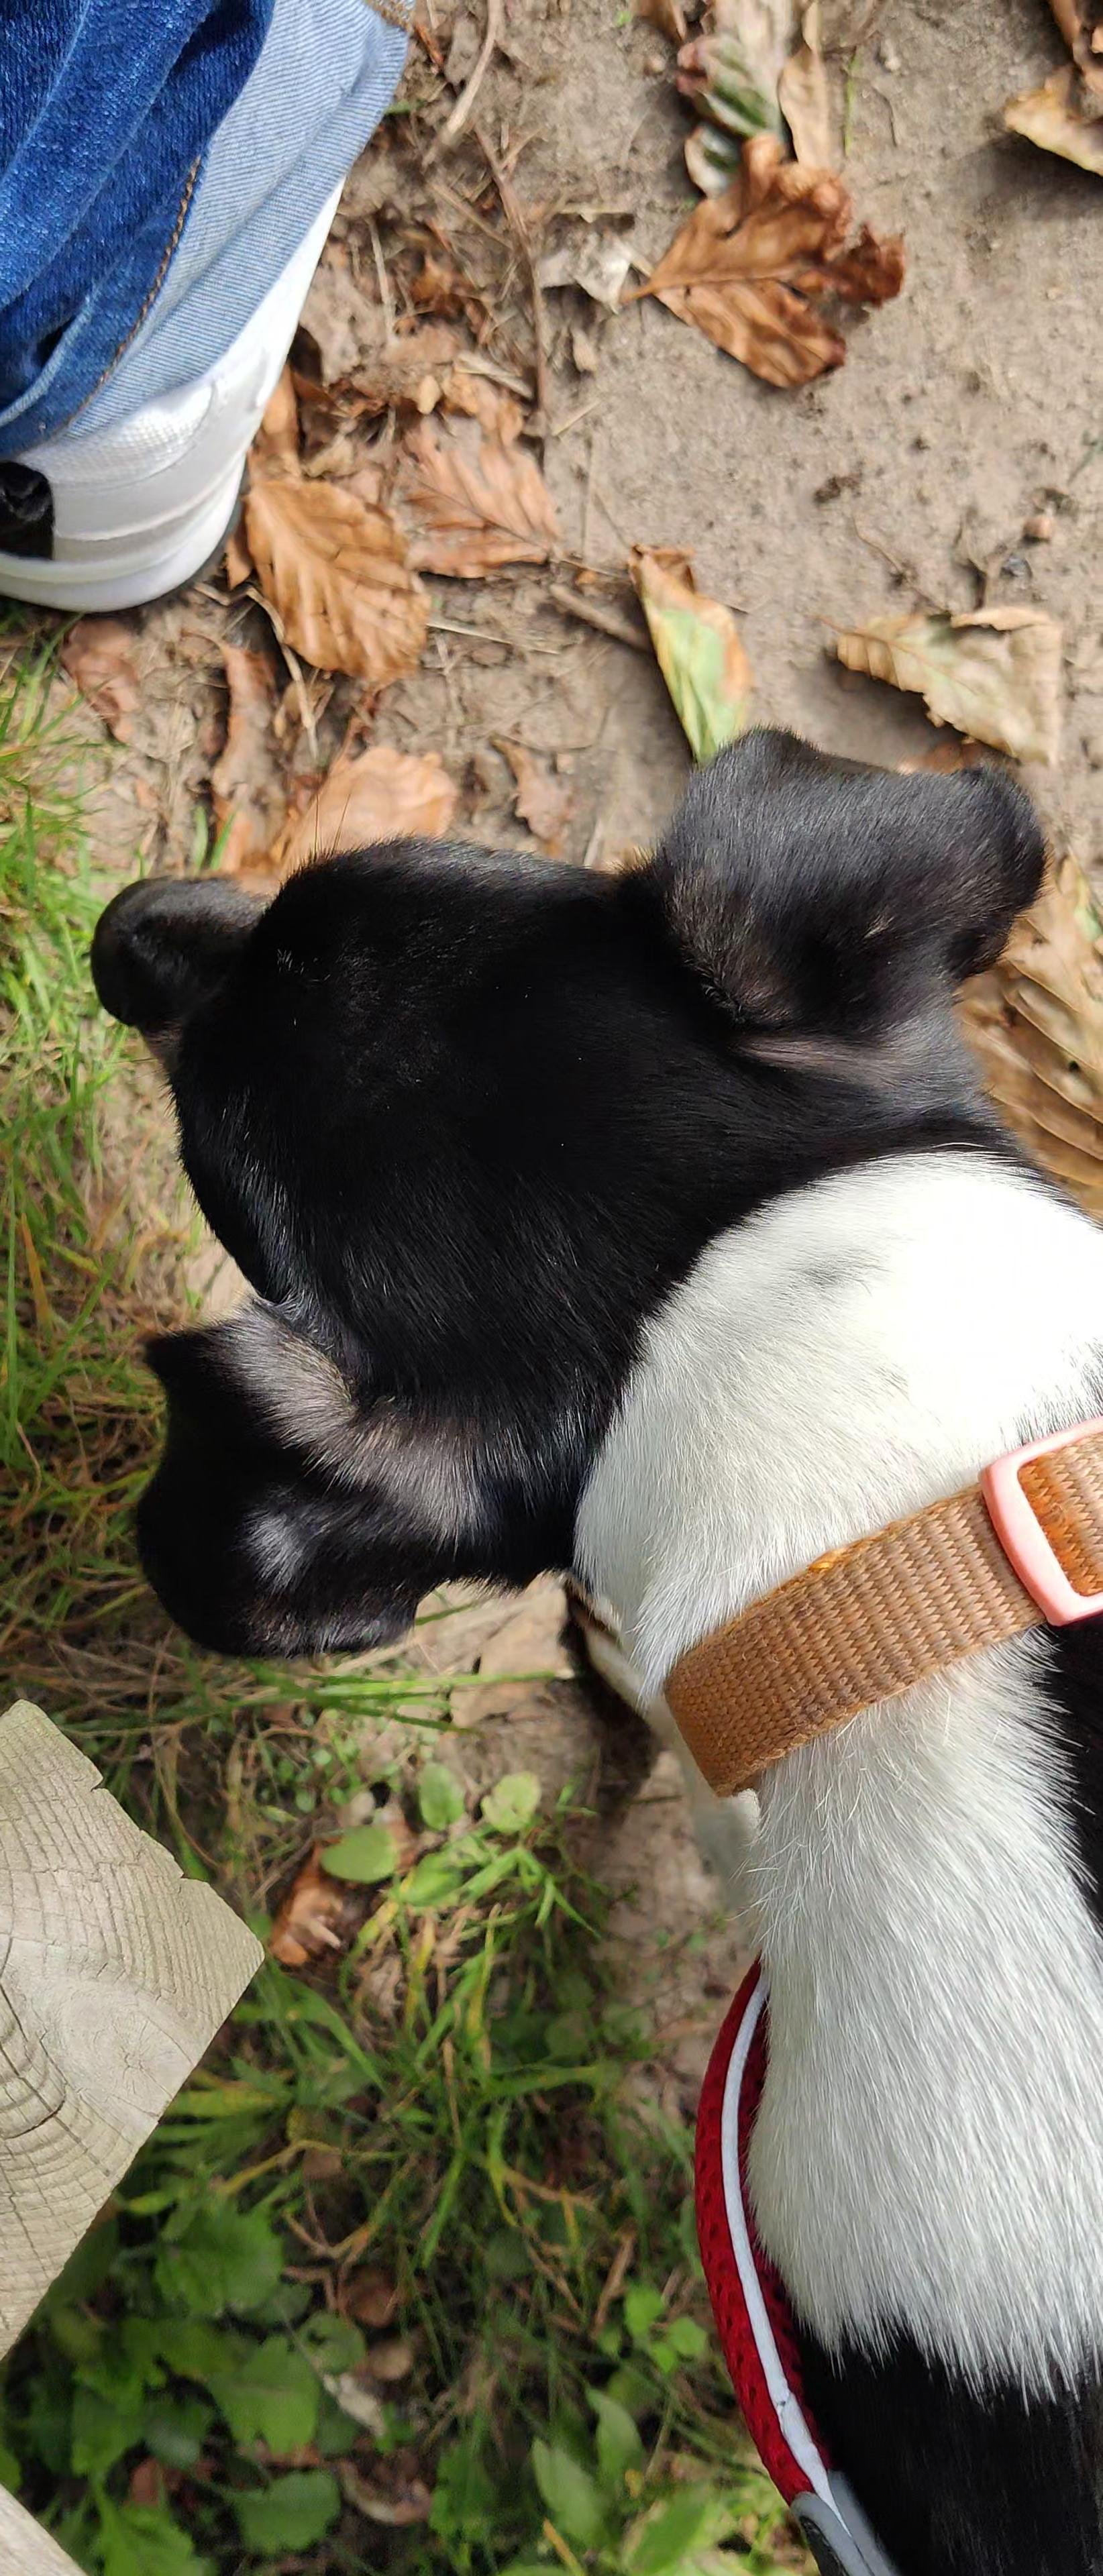Dog: (79, 711, 1103, 2576)
